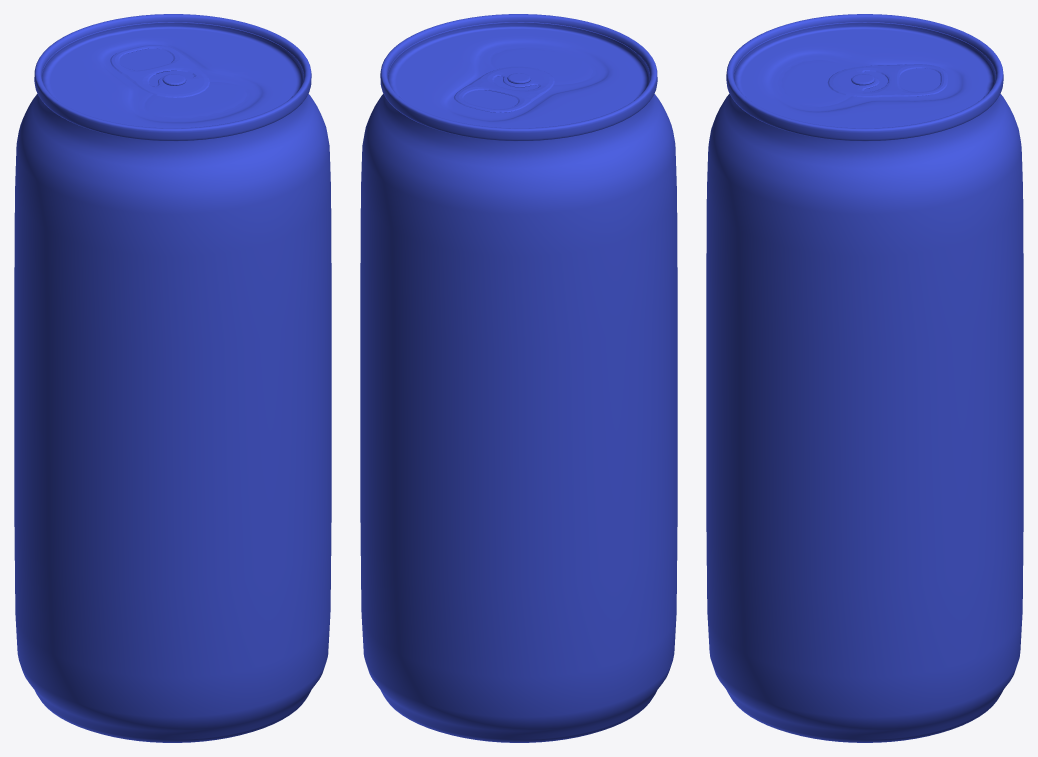
Rendered from Lata de Cafe.fbx.
3 views of the same model, side by side, from view 1: azimuth 30°, elevation 25°; view 2: azimuth 150°, elevation 25°; view 3: azimuth 270°, elevation 25° (orthographic).
Parts seen in each view (by area): view 1: Lata, Evilla; view 2: Lata, Evilla; view 3: Lata, Evilla.
Part boxes in pixels (box(x1,y1,x2,y2)): Lata: box(14, 14, 331, 742); Evilla: box(110, 45, 209, 97); Lata: box(360, 14, 677, 742); Evilla: box(454, 66, 554, 112); Lata: box(706, 14, 1023, 742); Evilla: box(827, 64, 947, 97).
Size of the model in its own units: 72.24 by 154 by 72.24.
